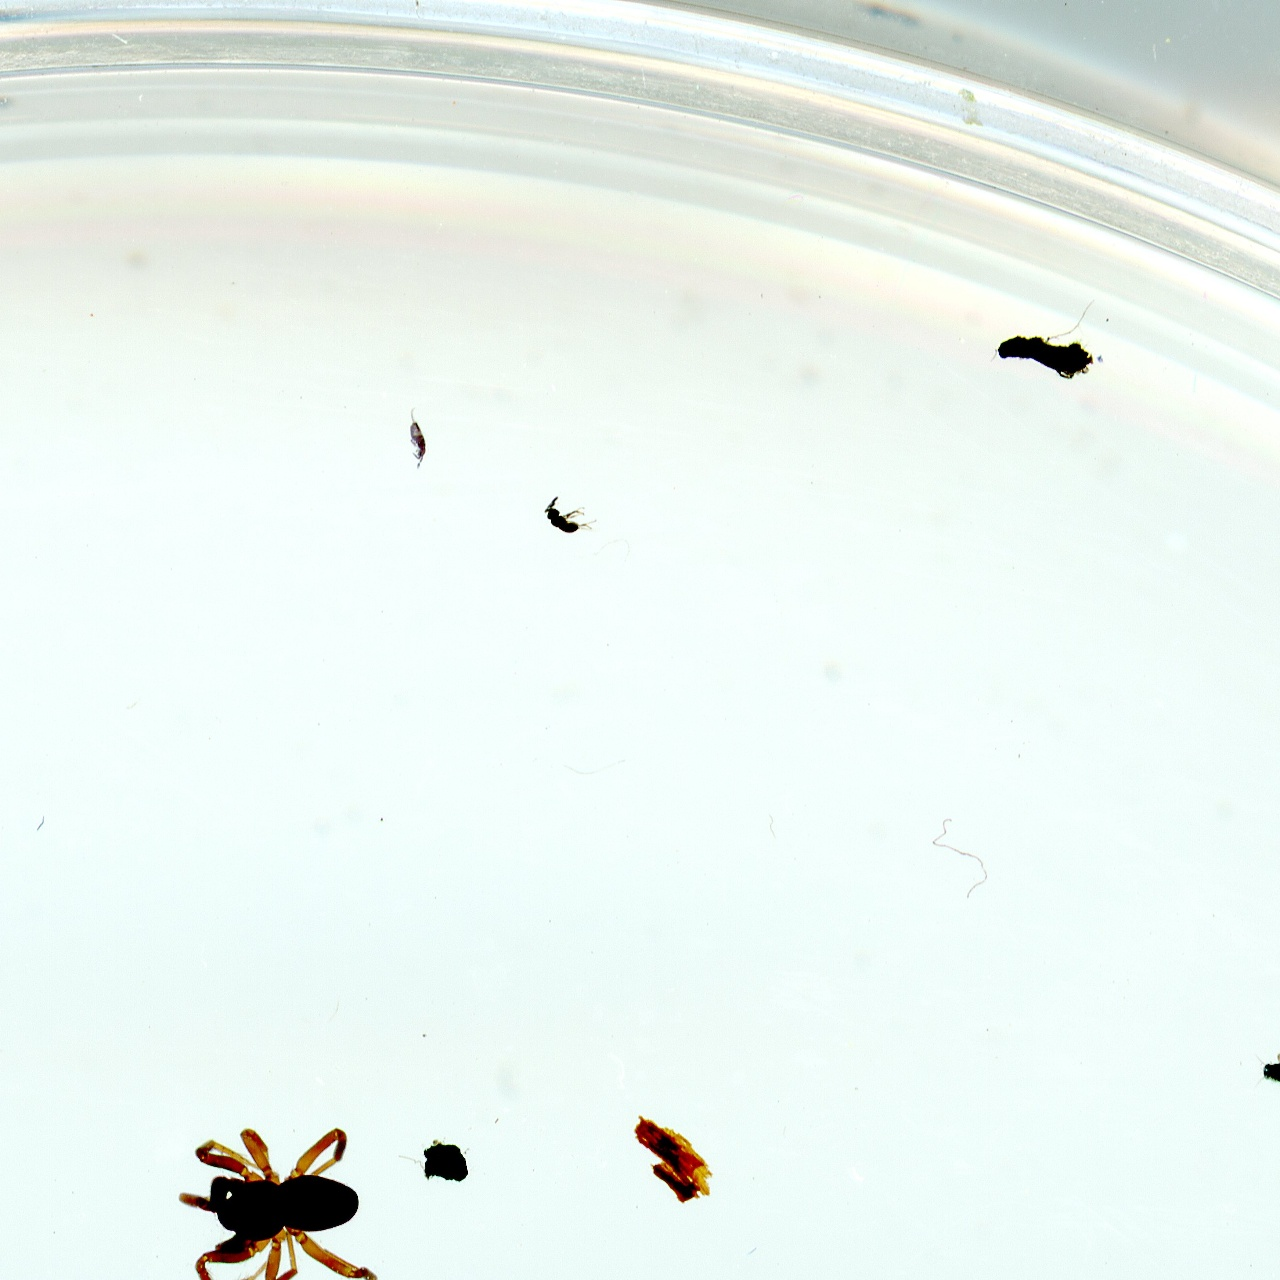arthropod: (176, 1123, 382, 1280), (402, 400, 435, 472), (543, 495, 599, 535), (1247, 1042, 1280, 1105)
